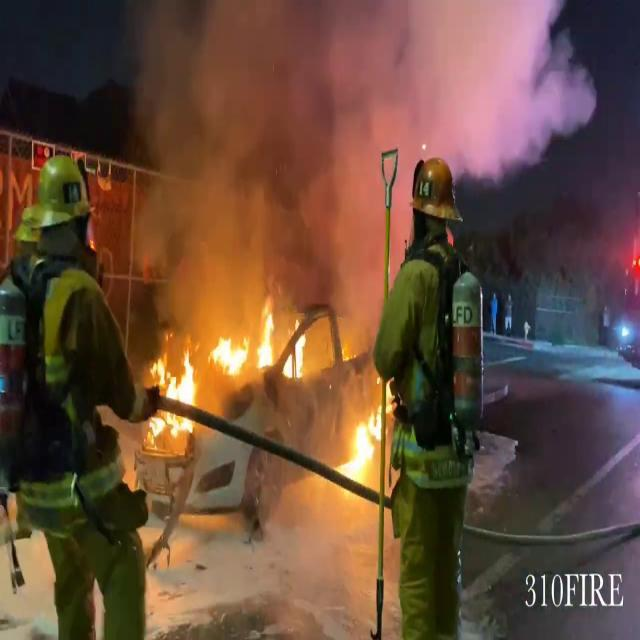Fire: (145, 298, 311, 434), (340, 392, 388, 488)
Smoke: (110, 0, 592, 308)
